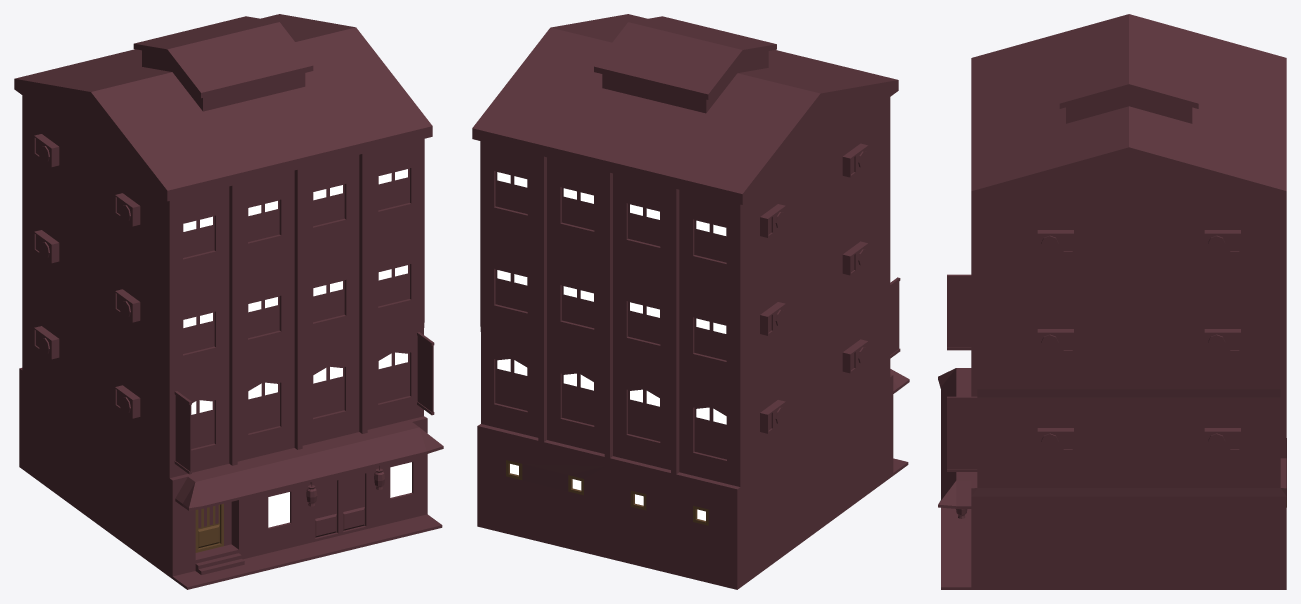
The model's file is buildings-building-apartment-china.glb.
3 views of the same model, side by side, from view 1: azimuth 30°, elevation 25°; view 2: azimuth 150°, elevation 25°; view 3: azimuth 270°, elevation 25° (orthographic). The views are drawn at different scales.
Visible parts, largest first — view 1: building-apartment-china; view 2: building-apartment-china; view 3: building-apartment-china.
Boxes of the visible parts, left/top/right/bottom form: building-apartment-china: left=14, top=14, right=443, bottom=589; building-apartment-china: left=472, top=14, right=909, bottom=589; building-apartment-china: left=938, top=14, right=1286, bottom=589.
Size of the model in its own units: 10.7 by 17.1 by 11.5.
